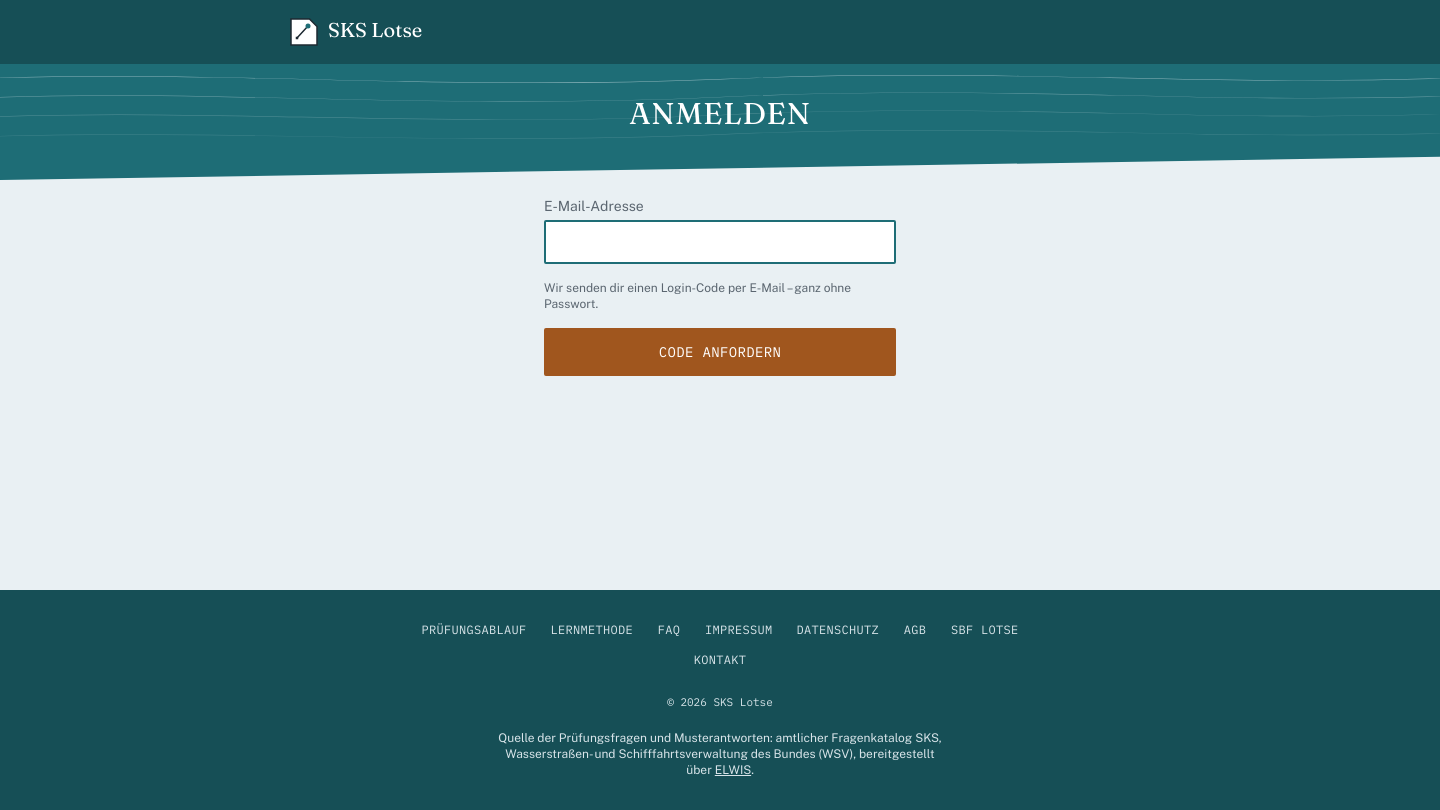
LoginPage › shows an inline error when the code is rejected
In the field labelled "E-Mail-Adresse": (720, 242) [544,220,896,264], type "learner@example.com"
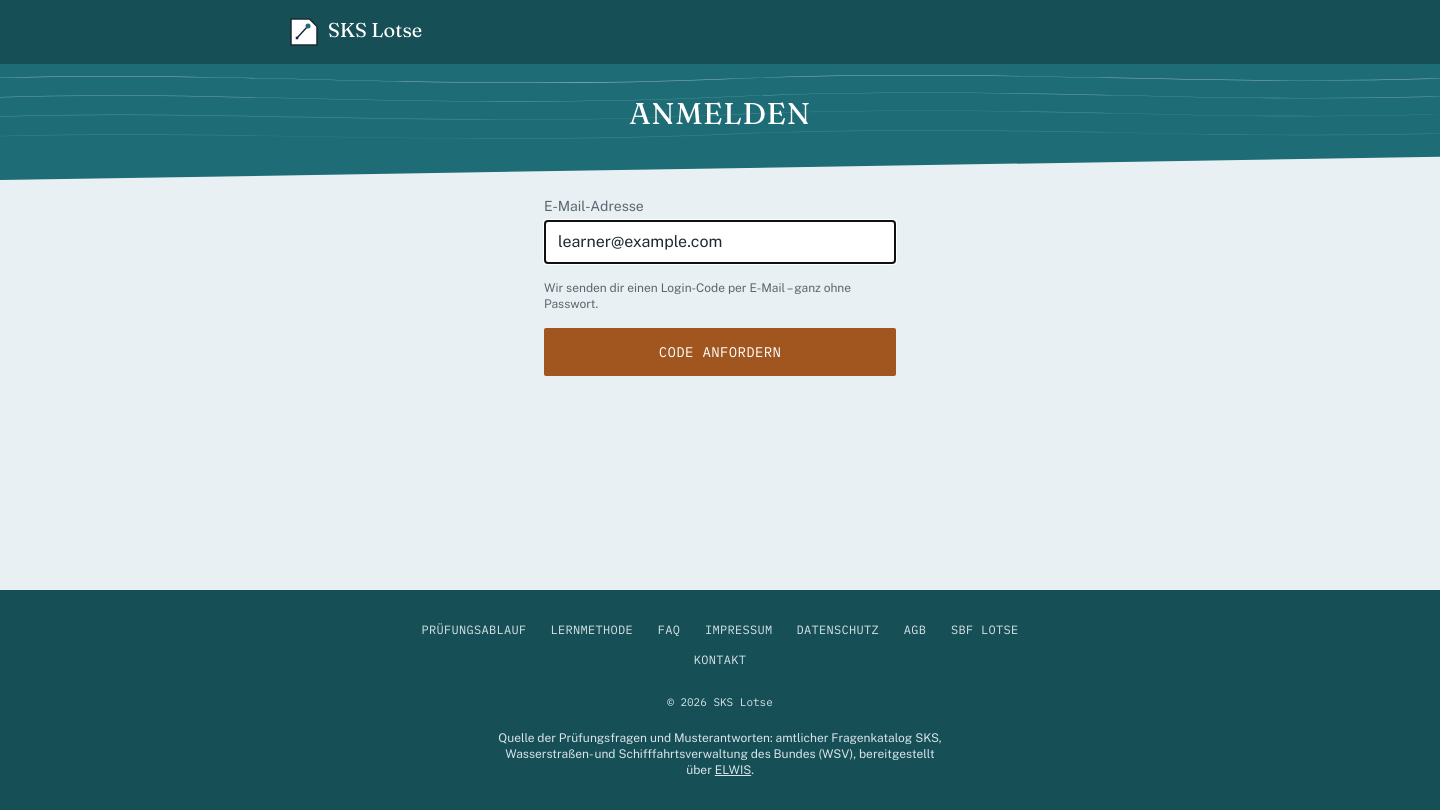
Click the button "Code anfordern": (720, 352) [544,328,896,376]
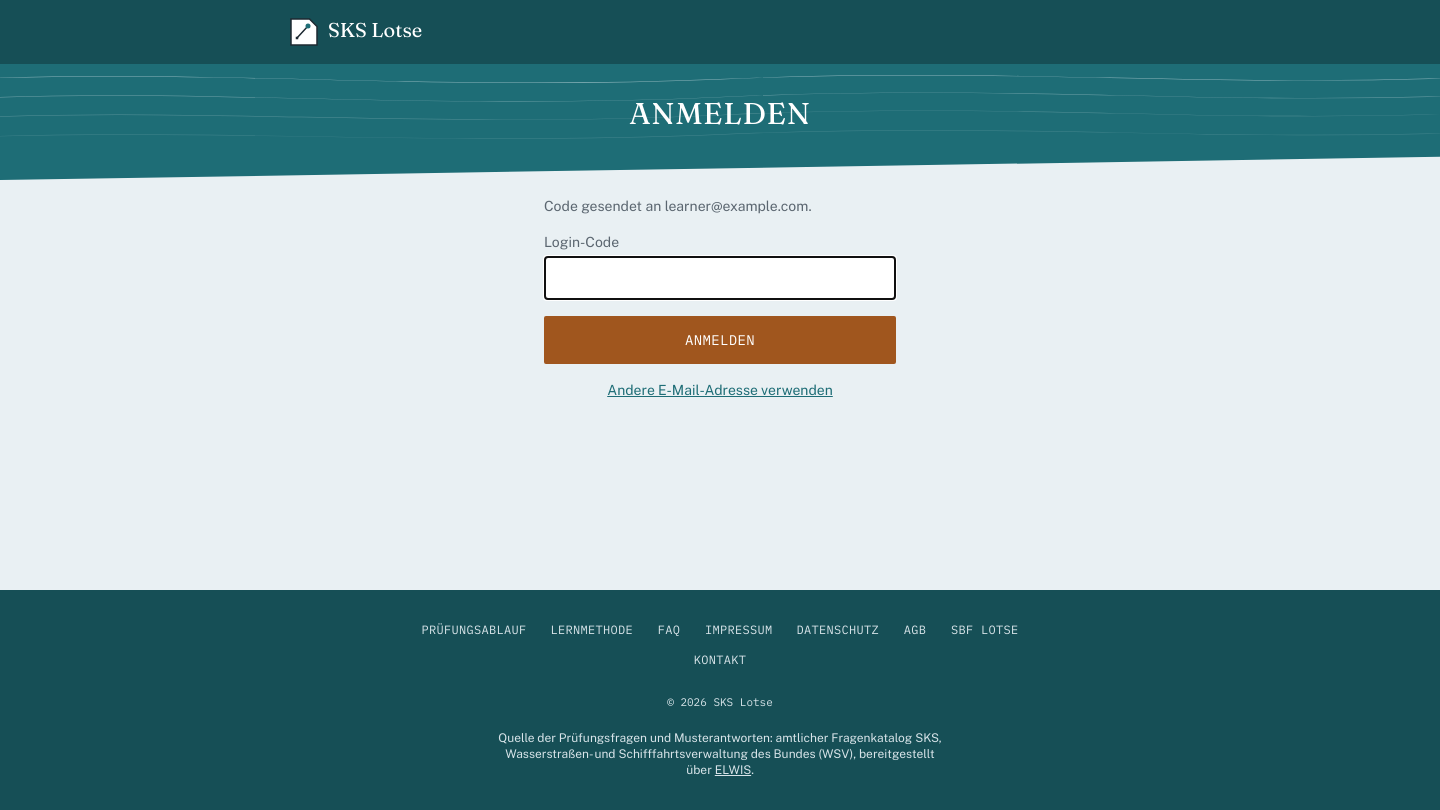
In the field labelled "Login-Code": (720, 278) [544,256,896,300], type "000000"
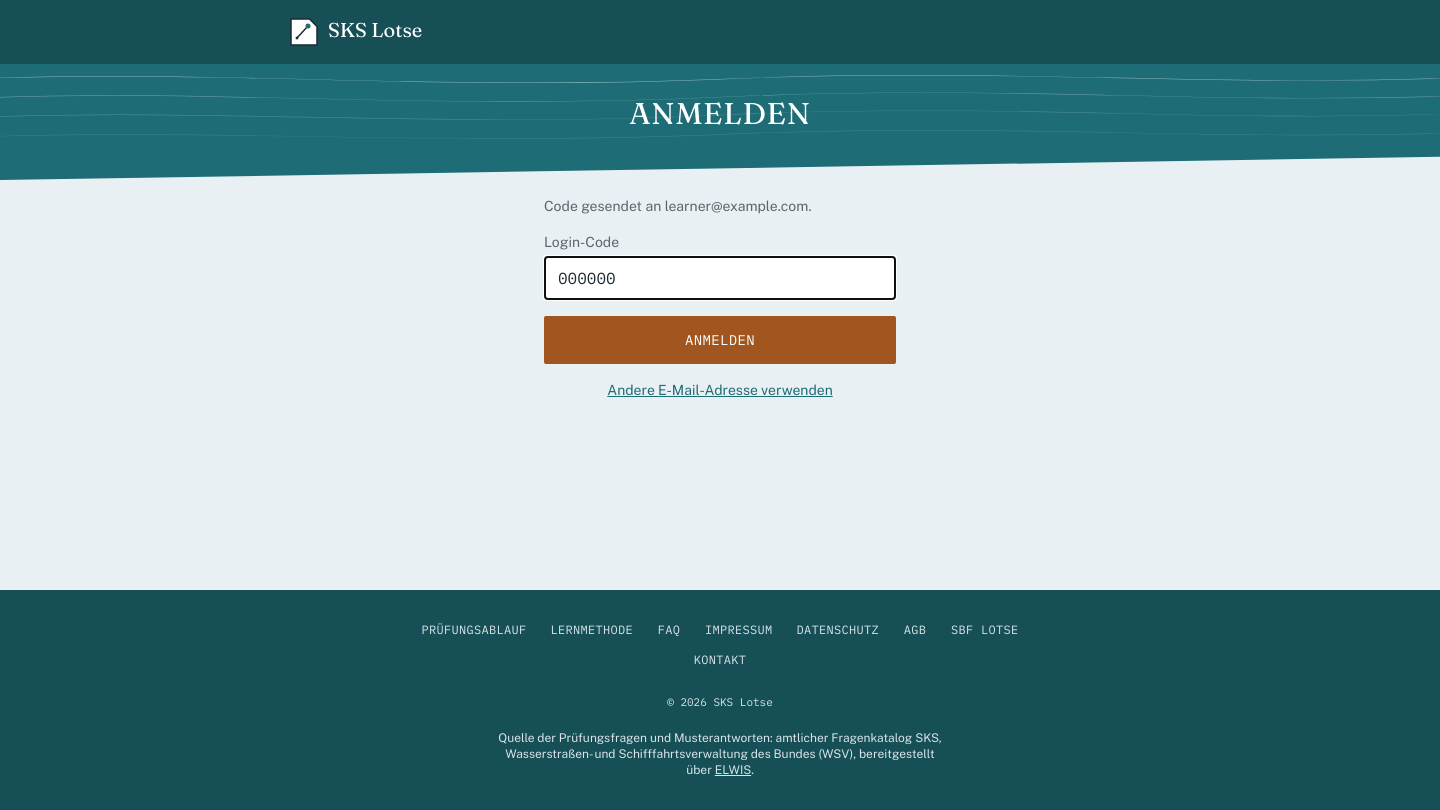
Click the button "Anmelden": (720, 340) [544,316,896,364]
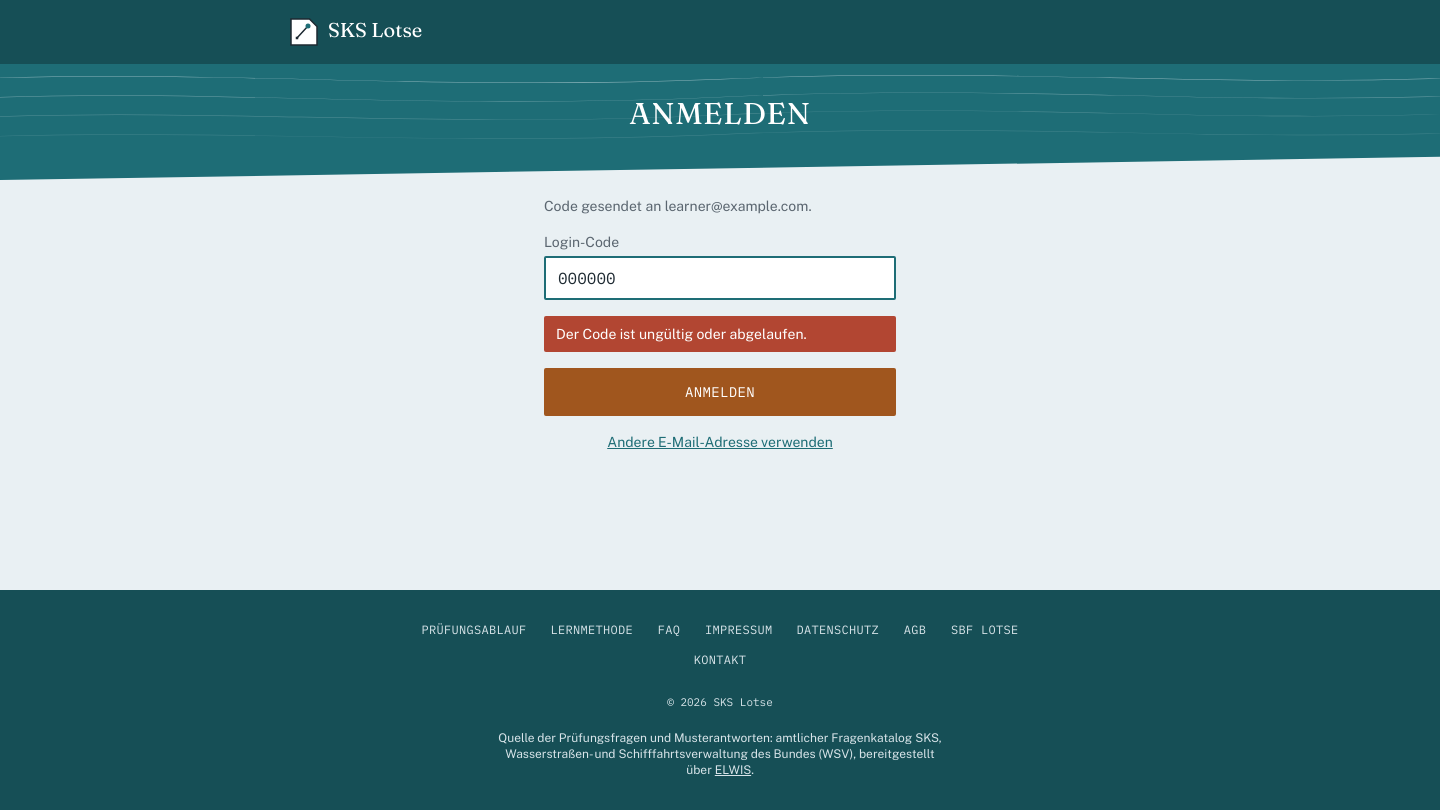
Check: the text "Der Code ist ungültig oder abgelaufen." is shown, box [556,324,807,344]
